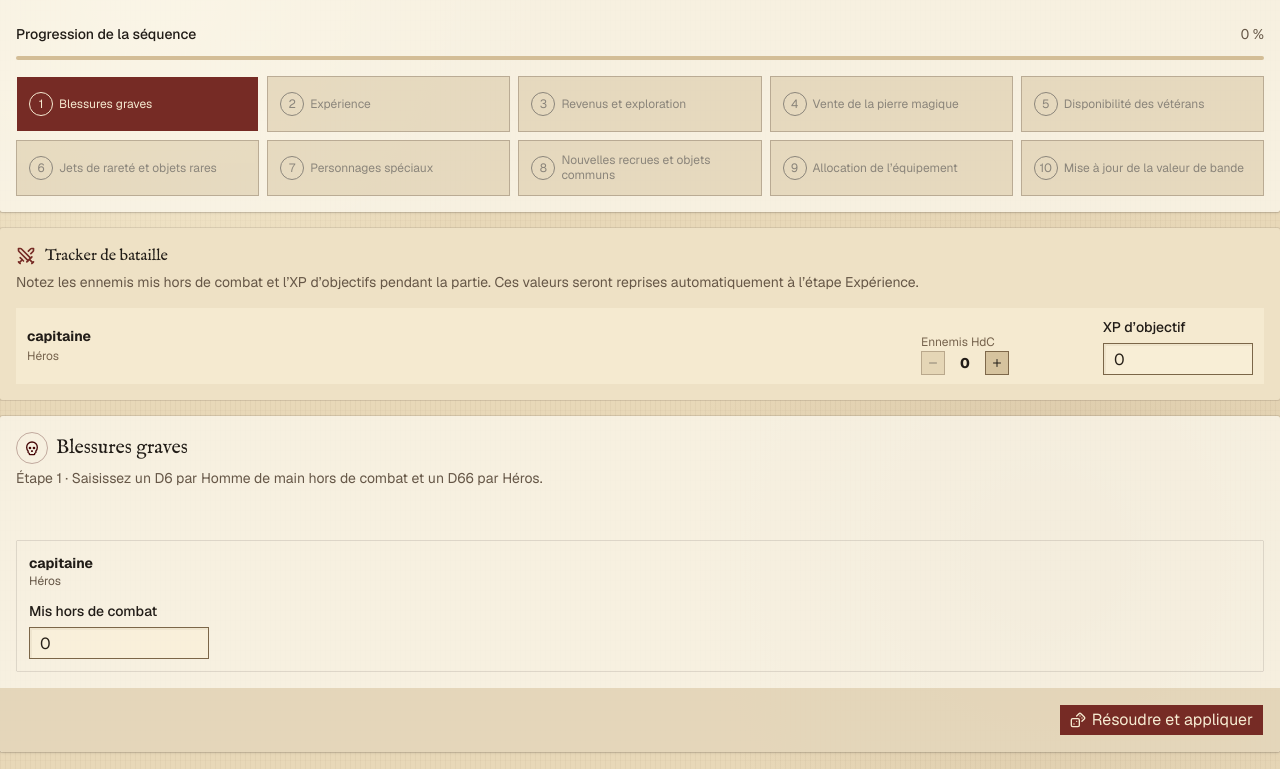
it: régressions après-bataille relevées par audit › interdit de valider des jets de blessure de combat encore en attente
(page scrolled)
Step 1. Click the button "Résoudre et appliquer" → (1161, 720), box [1059, 704, 1264, 736]
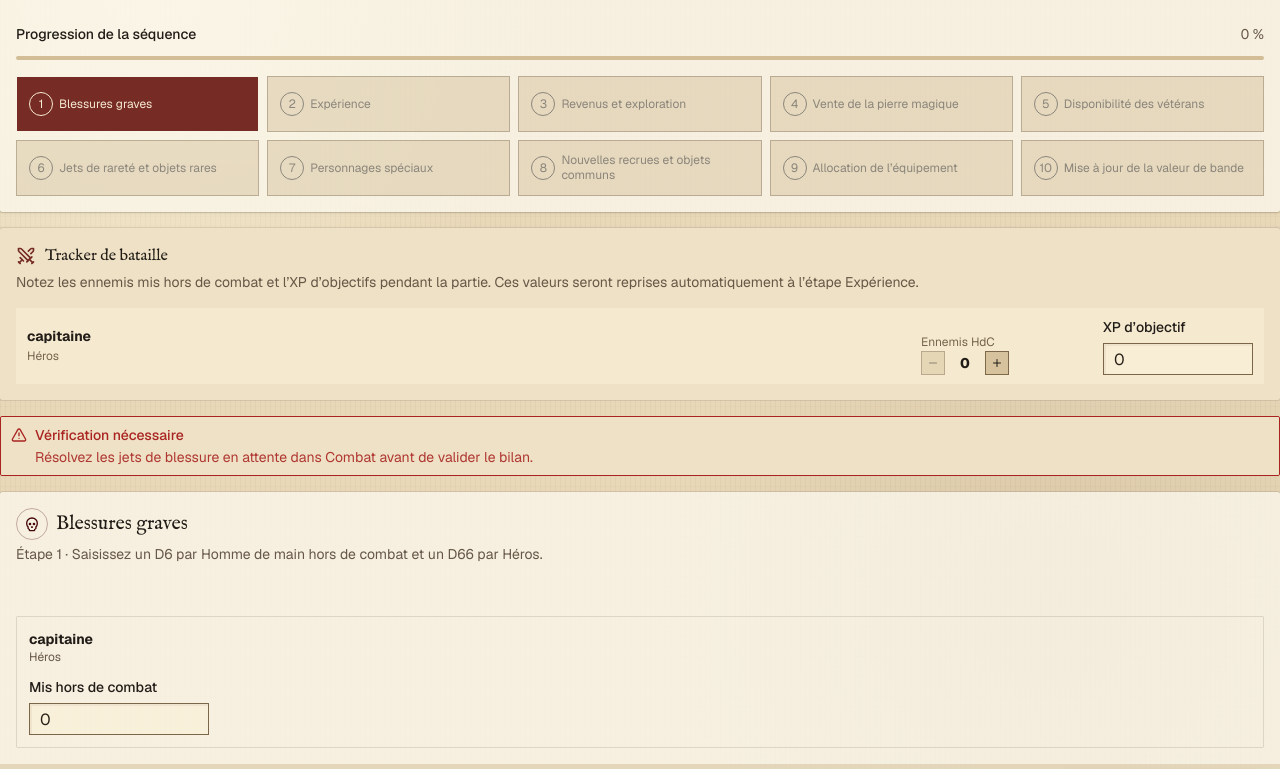
Expected: the text "Résolvez les jets de blessure en attente dans Combat" is shown, [35, 448, 533, 466]
